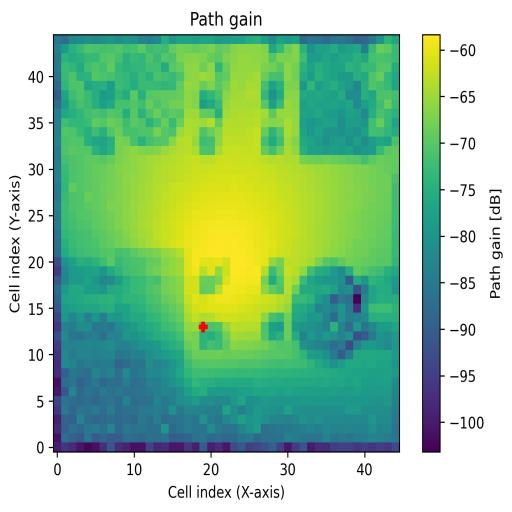Concrete: (299, 48, 369, 156)
Glass: (123, 52, 185, 146)
Metal: (293, 266, 375, 360)
Wood: (116, 247, 184, 377)
